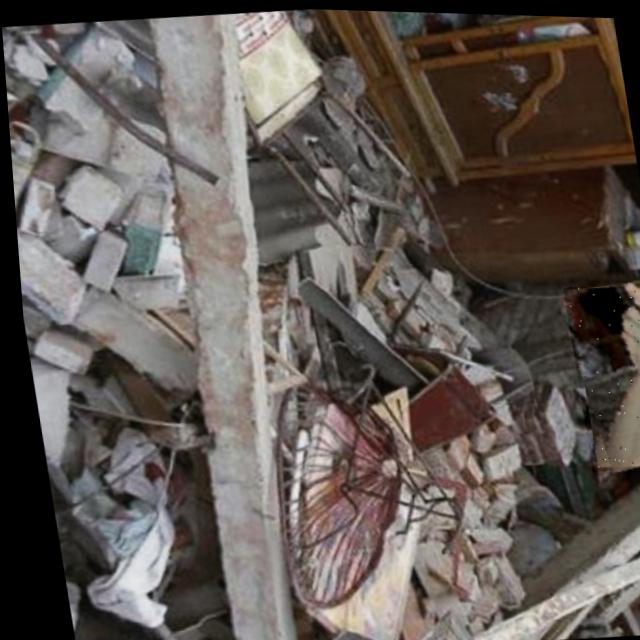Person in Rubble: (556, 276, 640, 470)
